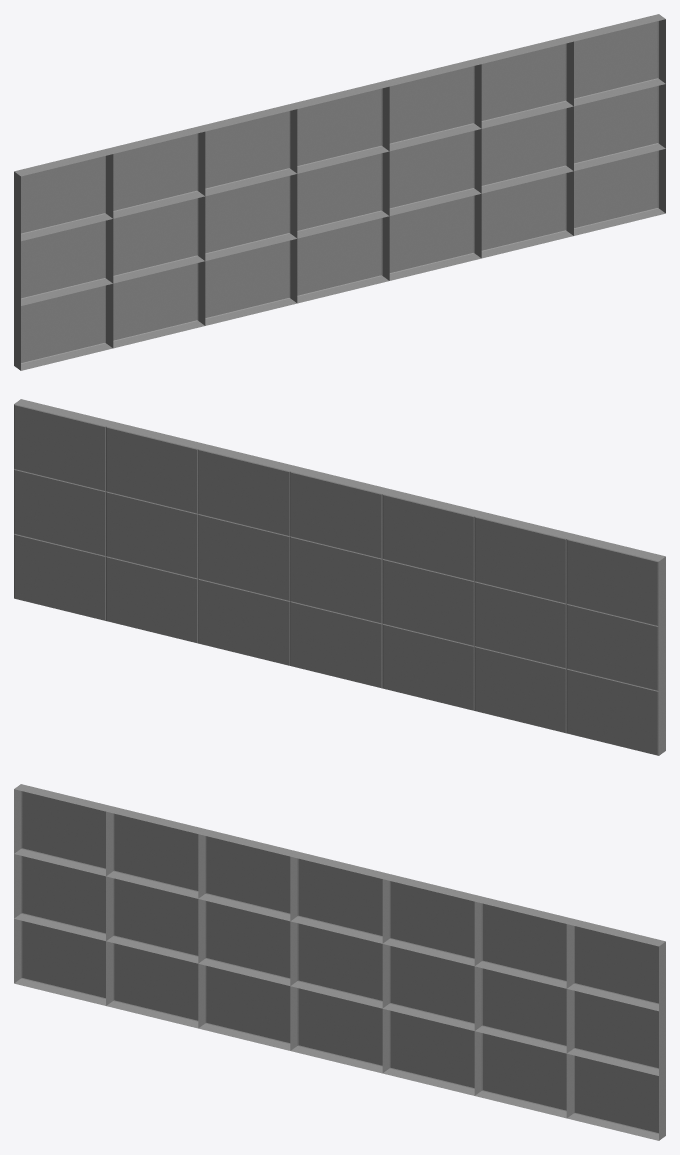
Rendered from asdn.FBX.
The picture shows the model from 3 angles, top to bottom: view 1: azimuth 30°, elevation 25°; view 2: azimuth 150°, elevation 25°; view 3: azimuth 330°, elevation 25°; orthographic projection.
Parts seen in each view (by area): view 1: Aluminum_plate_polySurface13; view 2: Aluminum_plate_polySurface13; view 3: Aluminum_plate_polySurface13.
Part boxes in pixels (x1=…): Aluminum_plate_polySurface13: x1=14, y1=14, x2=665, y2=370; Aluminum_plate_polySurface13: x1=14, y1=399, x2=665, y2=755; Aluminum_plate_polySurface13: x1=14, y1=784, x2=665, y2=1140.
Size of the model in its own units: 2170 by 625 by 42.58.
Materials: 1 (1 with a texture image).
